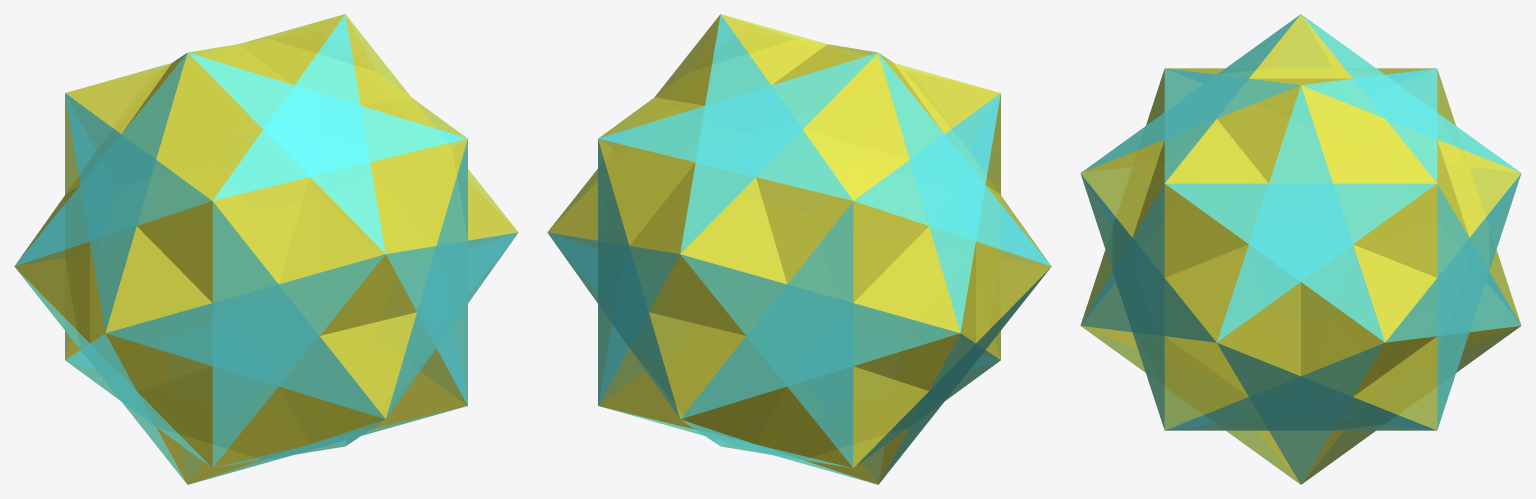
The model's file is SmallDitrigonalIcosidodecahedron.obj.
3 renders of one model, left to right at view 1: azimuth 30°, elevation 25°; view 2: azimuth 150°, elevation 25°; view 3: azimuth 270°, elevation 25°, orthographic. The views are drawn at different scales.
Bounding box in the file's own units: 1.62 × 1.62 × 1.62.
